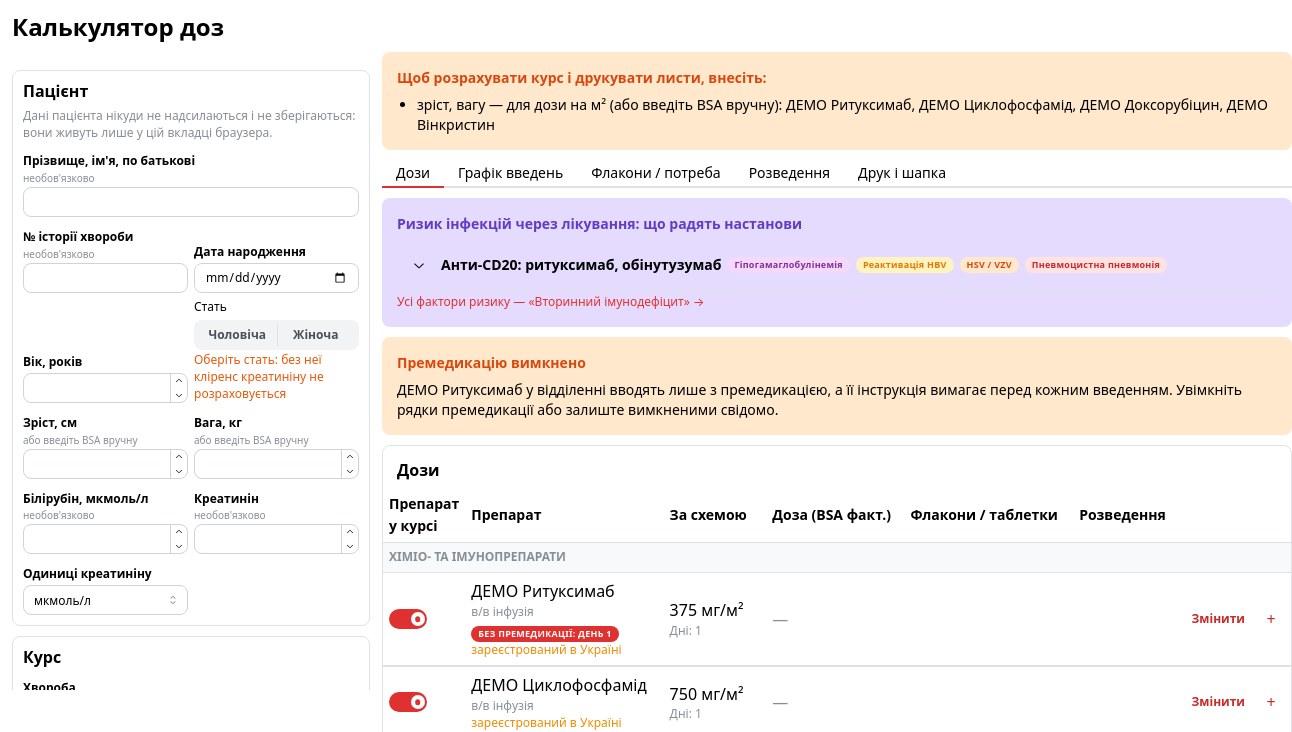
Test: CalculatorPage › shows the composition of the regimen before the patient data is entered
expect the text "ДЕМО Ритуксимаб" is shown: met, box [471,580,615,602]
Click the button "Змінити" in the row of "без премедикації: день 1". click: (1218, 619)
box: [1184,608,1253,630]
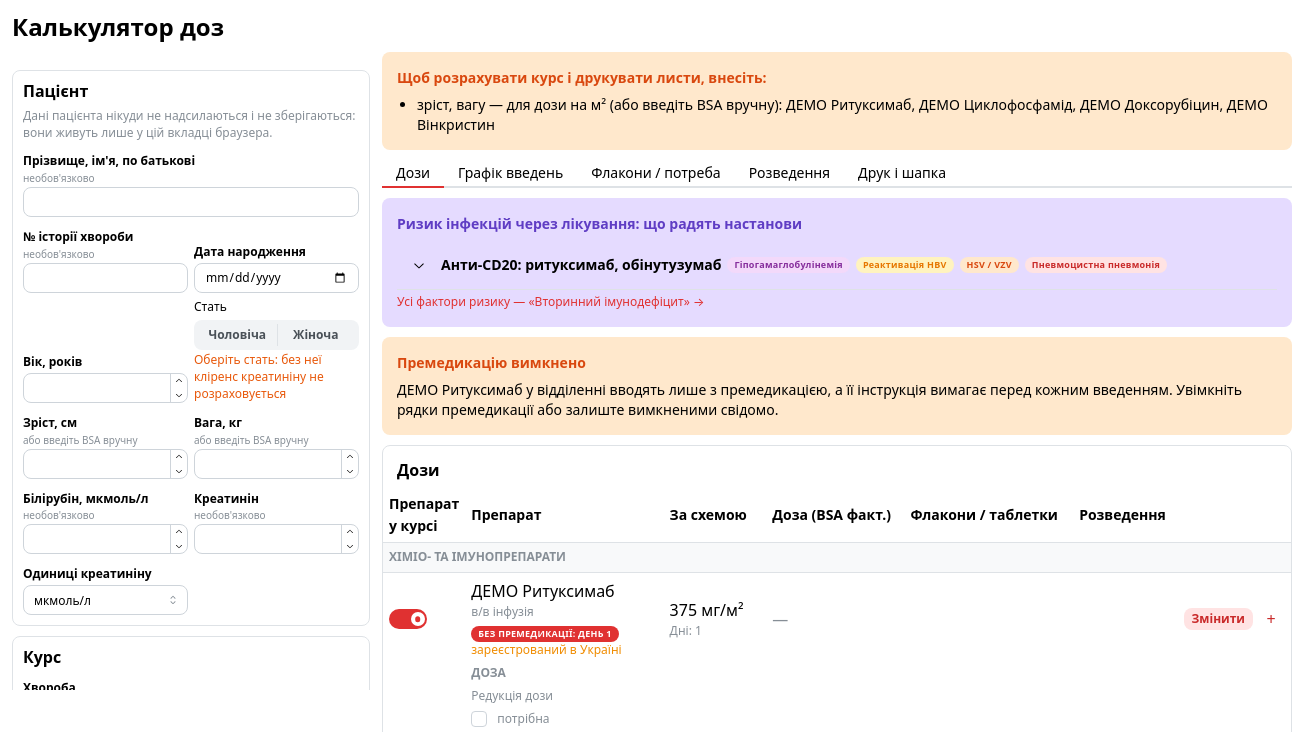
expect the checkbox named "потрібна: ДЕМО Ритуксимаб" is shown: met, box [471,711,487,727]
